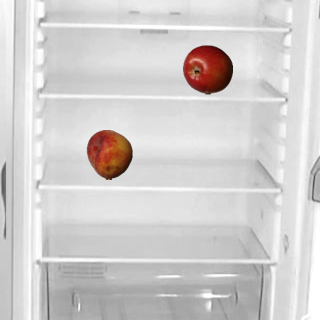Apple Braeburn: (182, 44, 232, 94)
Peach: (84, 129, 134, 179)
